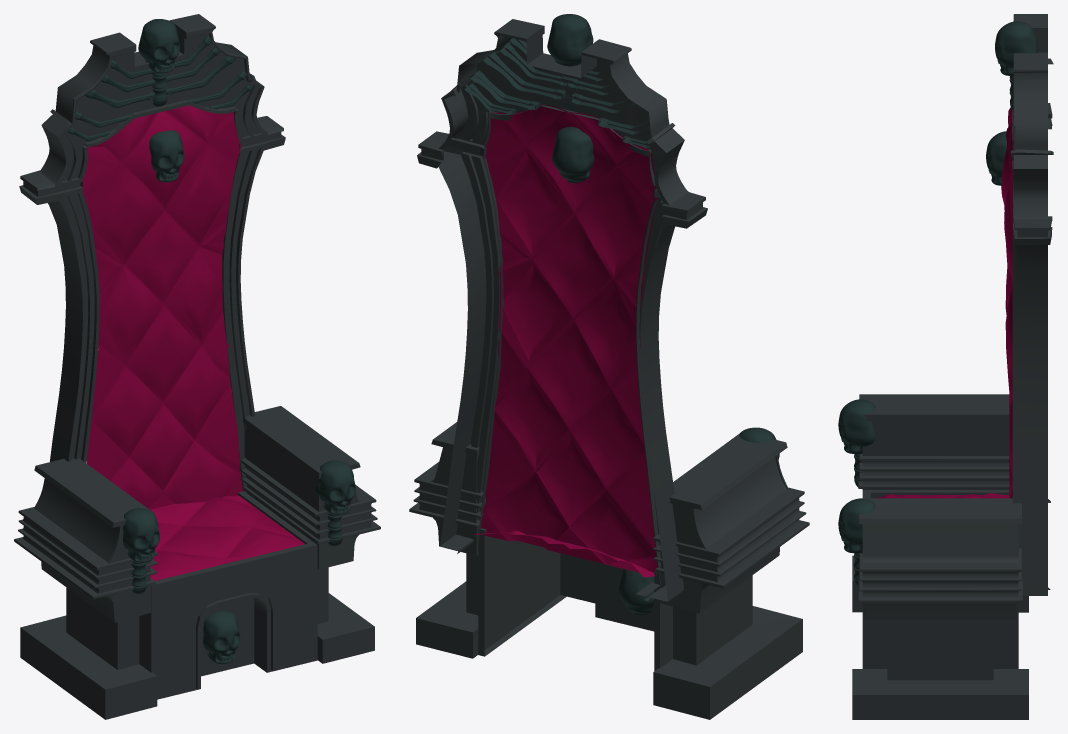
The model's file is rogue_trone.fbx.
The picture shows the model from 3 angles, left to right: view 1: azimuth 30°, elevation 25°; view 2: azimuth 150°, elevation 25°; view 3: azimuth 270°, elevation 25°; orthographic projection. The views are drawn at different scales.
Parts seen in each view (by area): view 1: pSphere23; view 2: pSphere23; view 3: pSphere23.
Boxes of the visible parts, bbox=[...] form: pSphere23: bbox=[14, 14, 380, 719]; pSphere23: bbox=[409, 14, 809, 719]; pSphere23: bbox=[838, 14, 1053, 719].
Bounding box in the file's own units: 231 × 467 × 144.
